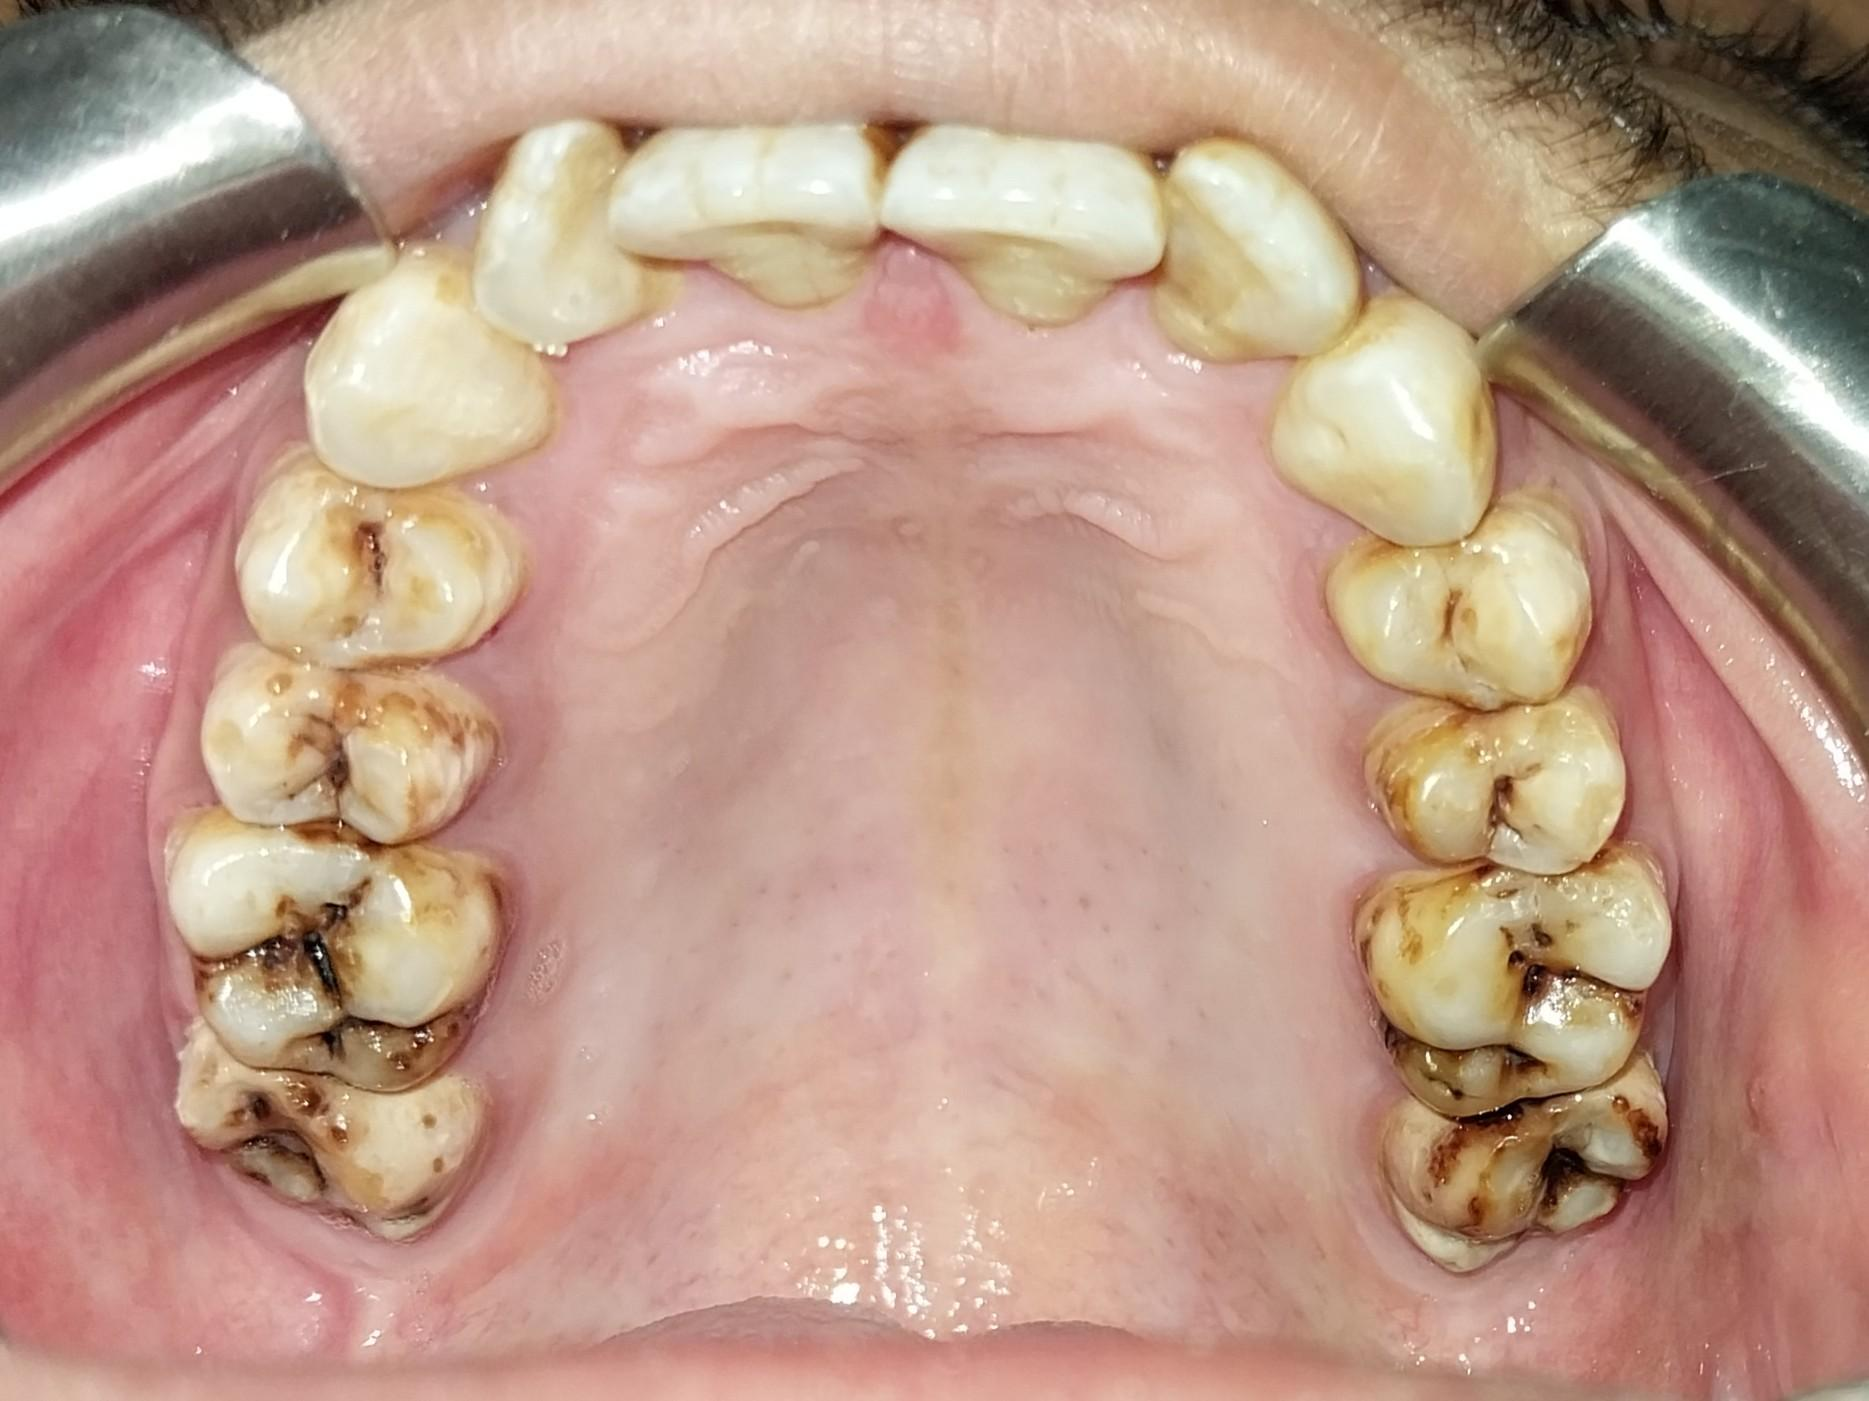D: (163, 814, 498, 1093), (1363, 845, 1684, 1124), (167, 1017, 491, 1245), (1379, 1062, 1667, 1279), (205, 655, 489, 840), (236, 464, 498, 662), (1363, 695, 1627, 874)
